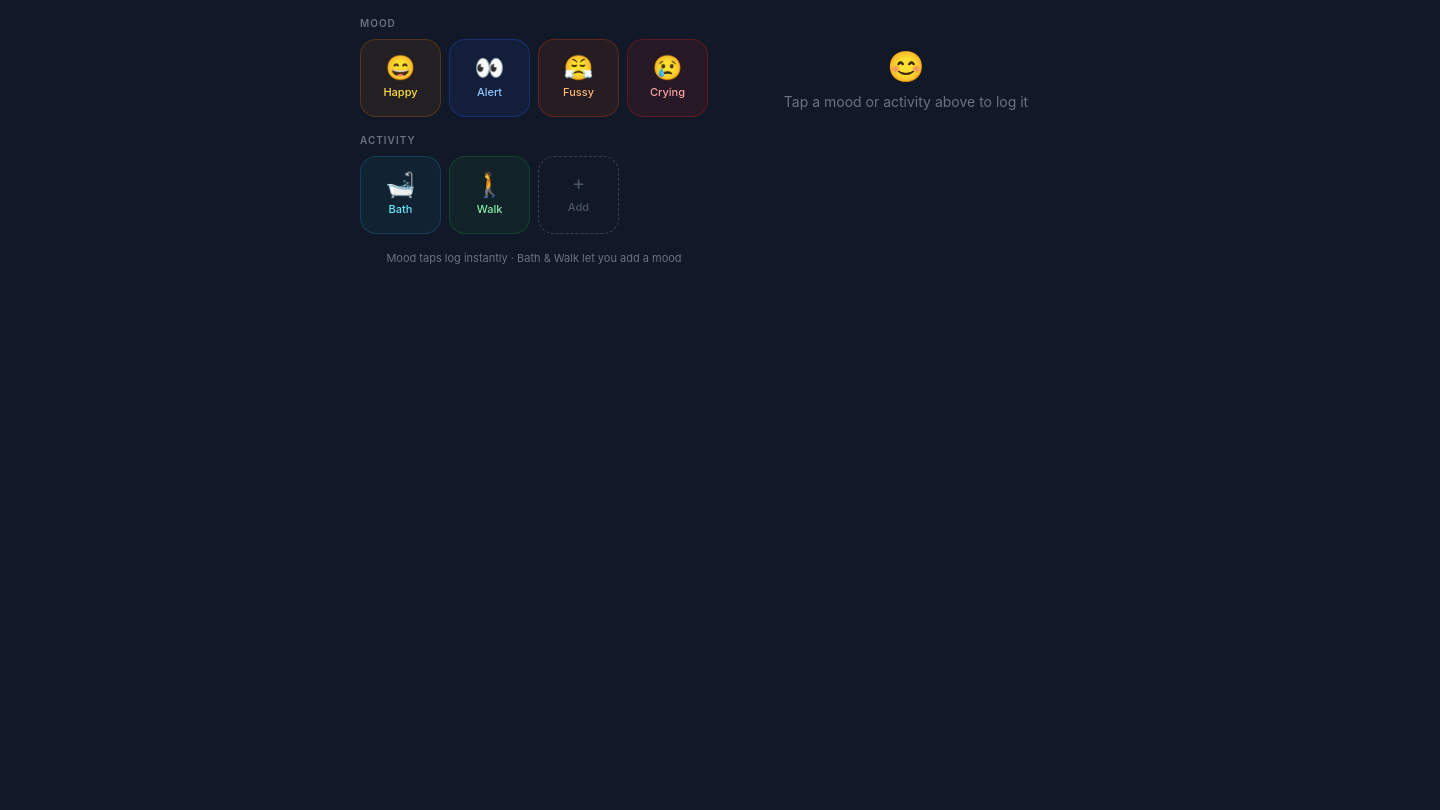
Test: MoodPage › shows qualifier bottom sheet when Bath is tapped, not an immediate log
Step 1. Click the text "Bath" → [400, 210], box [389,203,412,217]
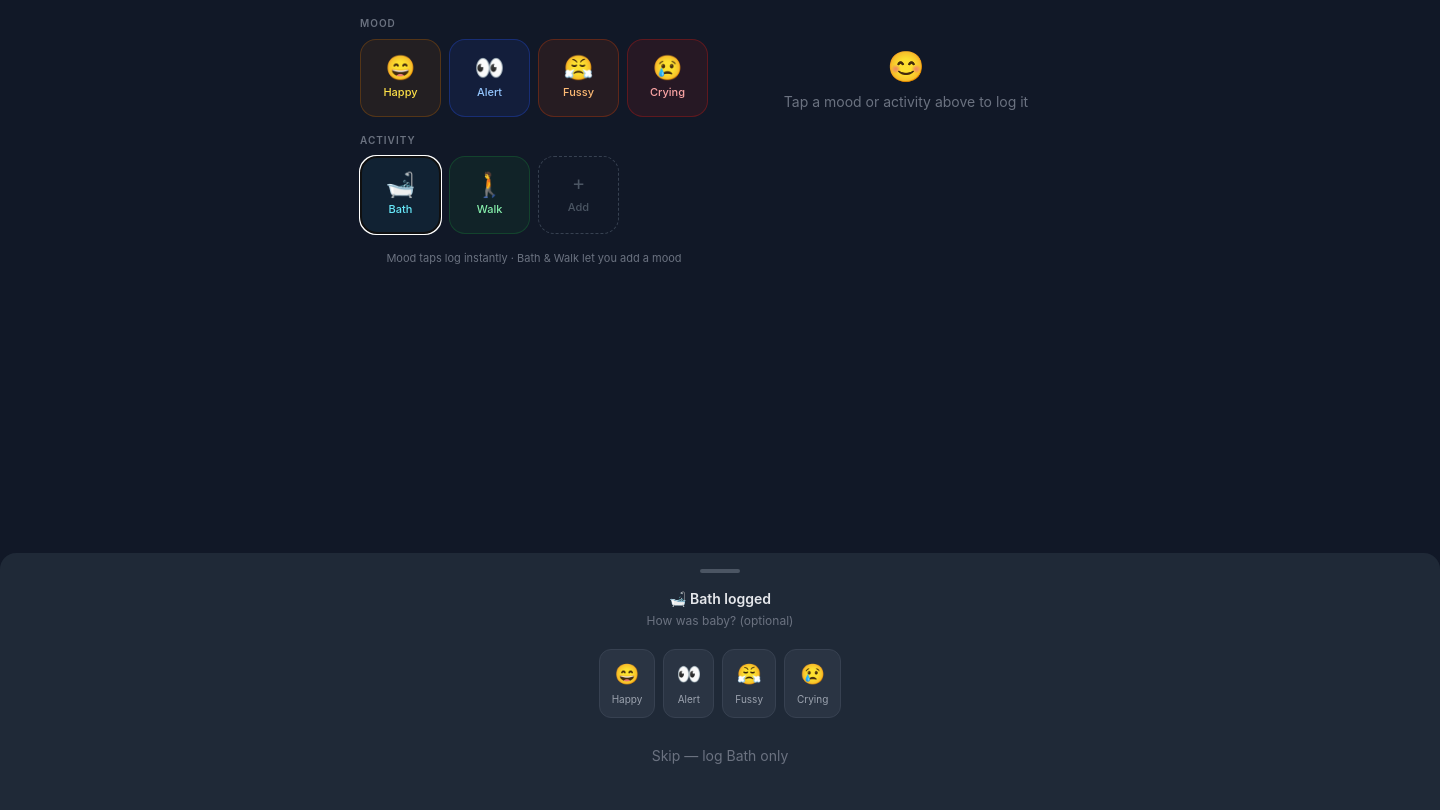
Expected: the text "🛁 Bath logged" is shown, [669,590,771,607]
Expected: the text "How was baby? (optional)" is shown, [647,613,794,628]
